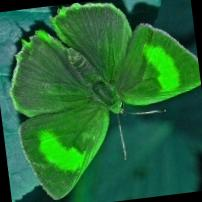butterfly: (10, 2, 201, 199)
